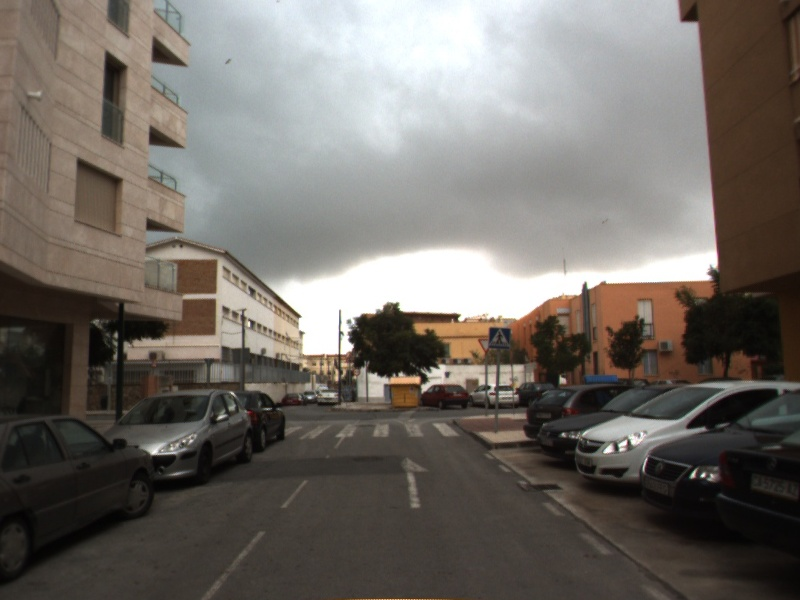STRAIGHT: (399, 455, 432, 509)
